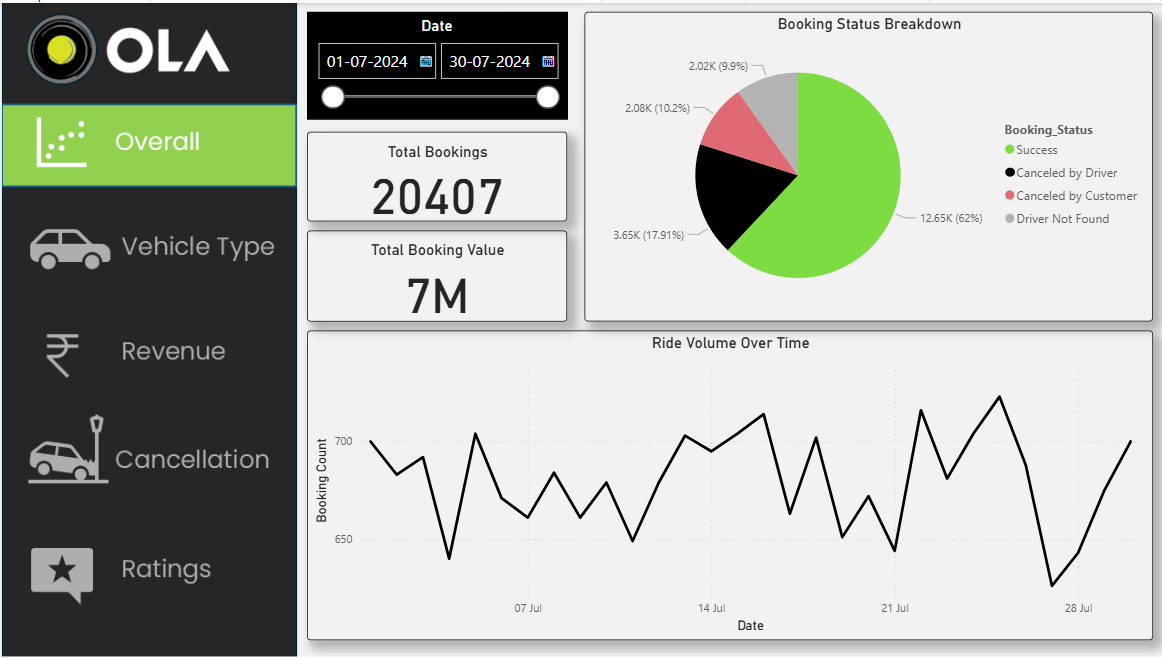

What the dashboard file says about the page in this screenshot:
{"tool":"powerbi","page":{"name":"Overall","canvas":[1280,720],"ordinal":0},"visuals":[{"type":"actionButton","box":[0,219.6,322.1,94.1],"z":0},{"type":"actionButton","box":[0,331.8,322.1,94.1],"z":1000},{"type":"actionButton","box":[0,445.2,322.1,94.1],"z":2000},{"type":"actionButton","box":[0,575.5,322.1,94.1],"z":3000},{"type":"lineChart","title":"Ride Volume Over Time","fields":{"Y":["CountNonNull(Bookings.Booking_ID)"],"Category":["Bookings.Date"]},"box":[334.8,359.5,929,340.3],"z":4000},{"type":"pieChart","title":"Booking Status Breakdown","fields":{"Category":["Bookings.Booking_Status"],"Y":["CountNonNull(Bookings.Booking_Status)"]},"box":[639.5,9.6,624.4,340.3],"z":5000},{"type":"slicer","title":"Date","fields":{"Values":["Bookings.Date"]},"box":[334.8,9.6,285.4,118],"z":6000},{"type":"card","title":"Total Bookings","fields":{"Values":["CountNonNull(Bookings.Booking_ID)"]},"box":[334.8,141.3,285.4,98.8],"z":7000},{"type":"card","title":"Total Booking Value","fields":{"Values":["Sum(Bookings.Booking_Value)"]},"box":[334.8,249.7,285.4,100.2],"z":8000}]}

Visuals, with their boxes in screenshot pixels (x1, y1, x2, y2), scaled from the page's 1280x720 canvas onto the 1162x658 screenshot:
actionButton: 0,201,292,287
actionButton: 0,303,292,389
actionButton: 0,407,292,493
actionButton: 0,526,292,612
"Ride Volume Over Time" lineChart: 304,329,1147,640
"Booking Status Breakdown" pieChart: 581,9,1147,320
"Date" slicer: 304,9,563,117
"Total Bookings" card: 304,129,563,219
"Total Booking Value" card: 304,228,563,320
